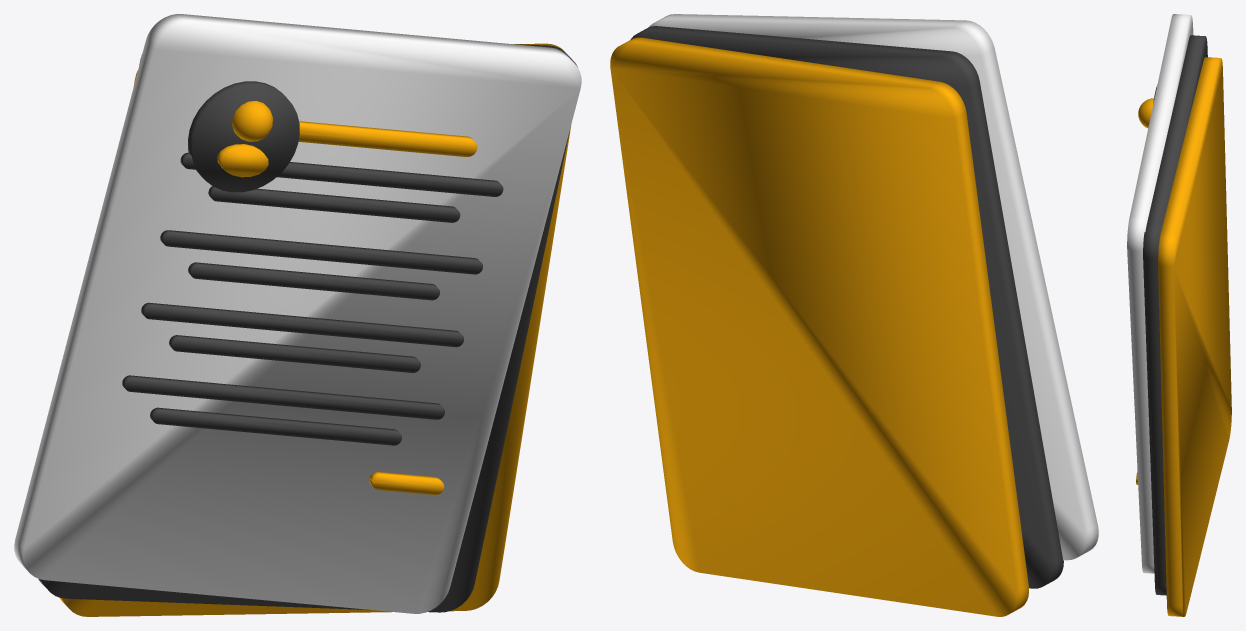
Rendered from resume.glb.
The picture shows the model from 3 angles, left to right: view 1: azimuth 30°, elevation 25°; view 2: azimuth 150°, elevation 25°; view 3: azimuth 270°, elevation 25°; orthographic projection. The views are drawn at different scales.
Visible parts, largest first — view 1: ResFront, ResBack, ResMid, ResAvatar, ResLine_2, ResLine_4, ResLine_6, ResLine_7, ResLine_3, ResLine_5, ResLine_1, ResLine_0 (+4 smaller); view 2: ResBack, ResFront, ResMid; view 3: ResBack, ResFront, ResMid, ResHead.
Boxes of the visible parts, x1,y1,x2,y2 form: ResFront: [14, 14, 581, 613]; ResBack: [59, 43, 573, 616]; ResMid: [38, 44, 577, 612]; ResAvatar: [188, 81, 299, 192]; ResLine_2: [160, 230, 482, 274]; ResLine_4: [141, 302, 463, 347]; ResLine_6: [122, 375, 444, 419]; ResLine_7: [150, 407, 401, 445]; ResLine_3: [188, 262, 439, 300]; ResLine_5: [169, 335, 420, 372]; ResLine_1: [208, 186, 460, 222]; ResLine_0: [180, 152, 503, 196]; ResBack: [610, 37, 1028, 616]; ResFront: [649, 14, 1098, 560]; ResMid: [630, 26, 1063, 588]; ResBack: [1158, 57, 1231, 616]; ResFront: [1127, 14, 1193, 573]; ResMid: [1143, 35, 1207, 595]; ResHead: [1138, 98, 1153, 128].
Size of the model in its own units: 2.35 by 2.74 by 0.5277.
